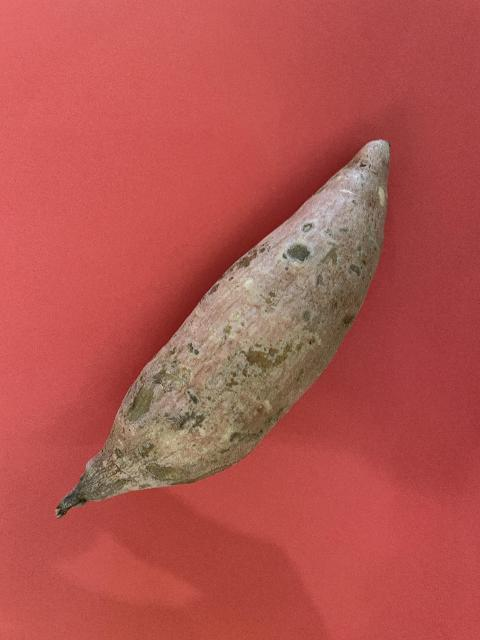sweetpotato: (52, 135, 392, 522)
